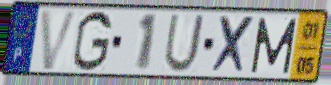1: (134, 12, 160, 73)
G: (71, 9, 115, 73)
M: (249, 16, 299, 76)
U: (162, 13, 207, 75)
V: (38, 9, 81, 73)
X: (209, 14, 257, 77)
